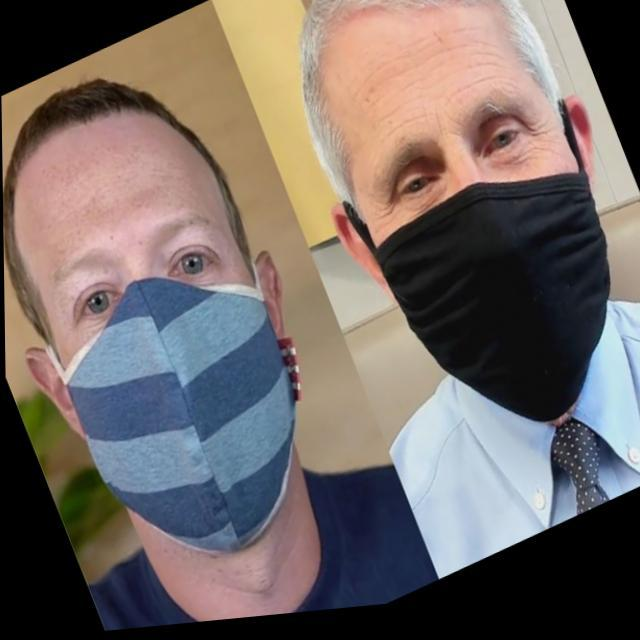Nonhelmet: (0, 64, 309, 558), (296, 0, 615, 423)
